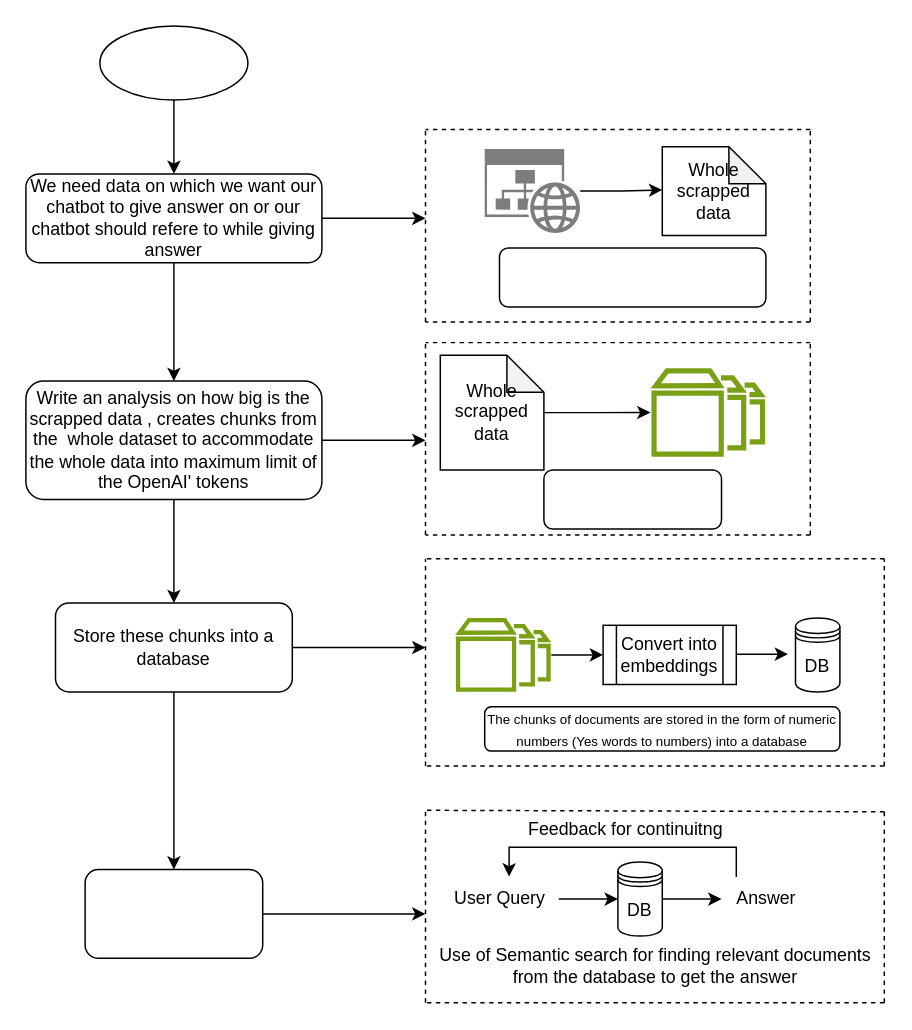
Image size: 912x1030. Some labels were removed from this diagram. Here are the shapes that lost their labels. From the top down, the centre of each, then its label:
the point at 173,62: Start
the point at 632,276: The data from the website can be scrapped using python
the point at 632,498: There are many ways to create chunks of raw orignal data into small pieces
the point at 173,913: Use RAG to retrieve the answers from database
